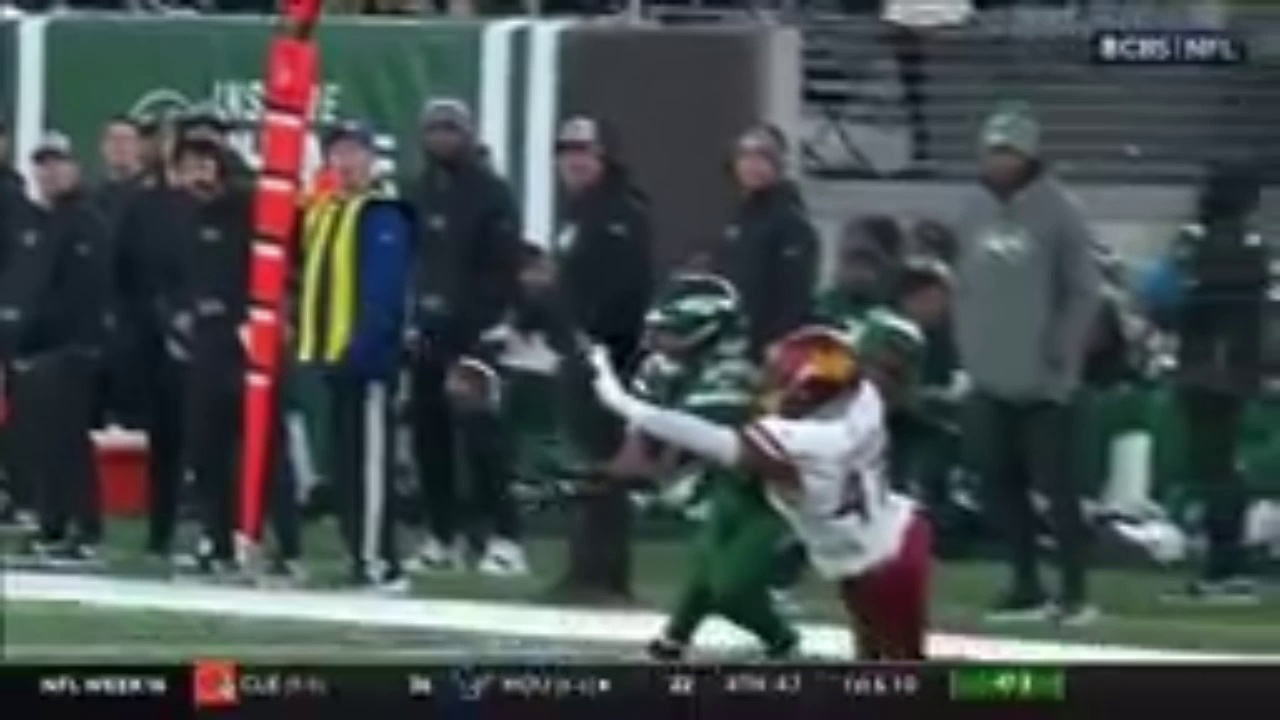interference: (622, 372, 797, 486)
